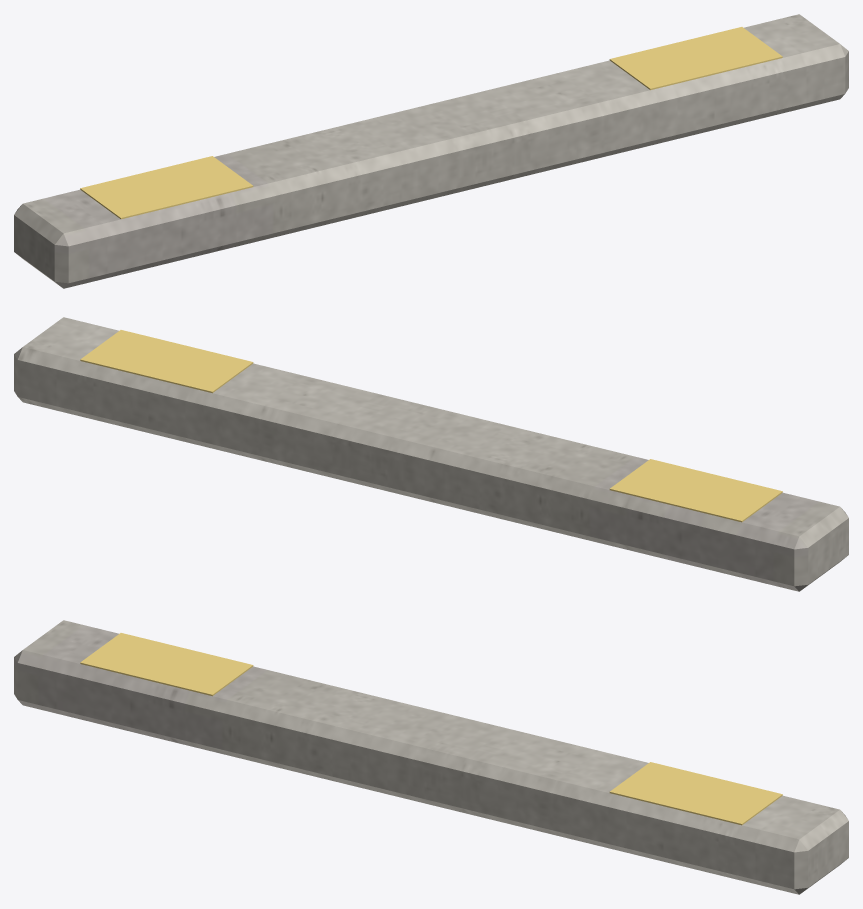
File: wheel_stop.glb
3 renders of one model, top to bottom at view 1: azimuth 30°, elevation 25°; view 2: azimuth 150°, elevation 25°; view 3: azimuth 330°, elevation 25°, orthographic.
Visible parts, largest first — view 1: wheel_stop_concrete, wheel_stop_paint_y; view 2: wheel_stop_concrete, wheel_stop_paint_y; view 3: wheel_stop_concrete, wheel_stop_paint_y.
Part boxes in pixels (box(x1,y1,x2,y2)): wheel_stop_concrete: box(14, 14, 848, 288); wheel_stop_paint_y: box(80, 27, 782, 219); wheel_stop_concrete: box(14, 317, 848, 591); wheel_stop_paint_y: box(80, 330, 782, 522); wheel_stop_concrete: box(14, 620, 848, 894); wheel_stop_paint_y: box(80, 633, 782, 825).
Size of the model in its own units: 1.8 by 0.123 by 0.2.
Materials: 2 (1 with a texture image).
